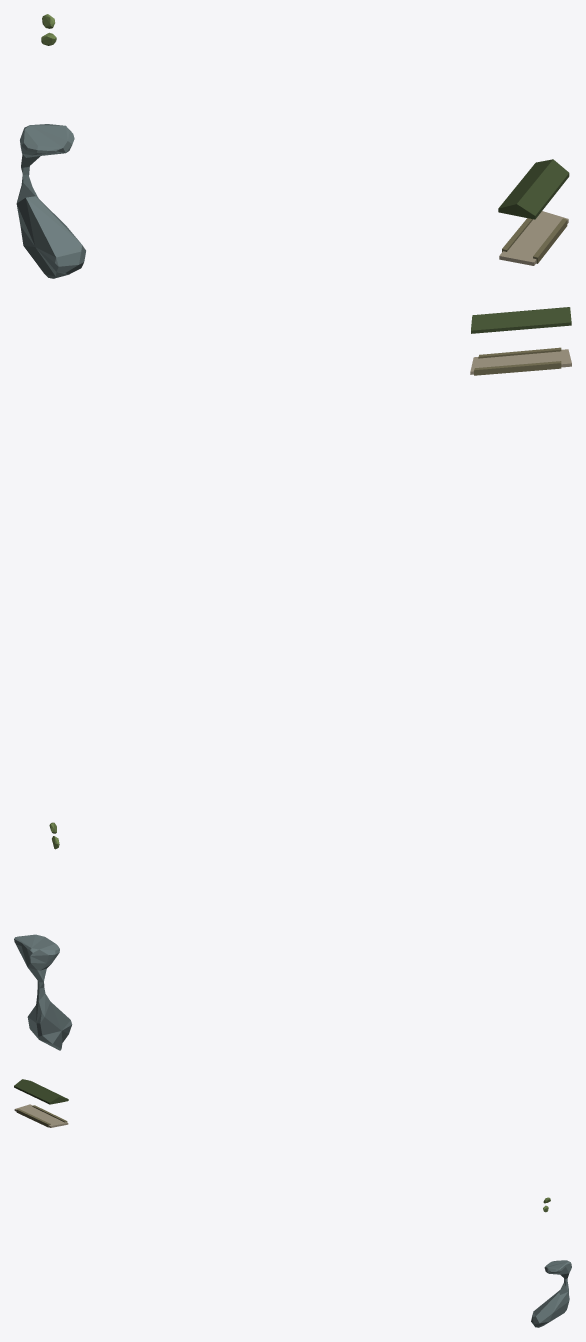
The picture shows the model from 3 angles, top to bottom: view 1: azimuth 30°, elevation 25°; view 2: azimuth 150°, elevation 25°; view 3: azimuth 270°, elevation 25°; orthographic projection. The views are drawn at different scales.
Parts seen in each view (by area): view 1: Box15332_rock_0, Box15650_roof1_0, Box15650_wall3_0, Box15650_rock2_0; view 2: Box15332_rock_0, Box15650_roof1_0, Box15650_wall3_0, Box15650_rock2_0; view 3: Box15332_rock_0, Box15650_roof1_0, Box15650_wall3_0.
Part boxes in pixels (left/top/right/bottom): Box15332_rock_0: left=16, top=124, right=85, bottom=278; Box15650_roof1_0: left=498, top=159, right=569, bottom=219; Box15650_wall3_0: left=499, top=211, right=568, bottom=265; Box15650_rock2_0: left=502, top=218, right=567, bottom=263; Box15332_rock_0: left=14, top=934, right=72, bottom=1050; Box15650_roof1_0: left=471, top=307, right=571, bottom=333; Box15650_wall3_0: left=470, top=349, right=571, bottom=374; Box15650_rock2_0: left=474, top=347, right=561, bottom=375; Box15332_rock_0: left=531, top=1260, right=571, bottom=1327; Box15650_roof1_0: left=14, top=1079, right=68, bottom=1104; Box15650_wall3_0: left=14, top=1104, right=68, bottom=1127.
Bounding box in the file's own units: 547 × 2449 × 5292.
